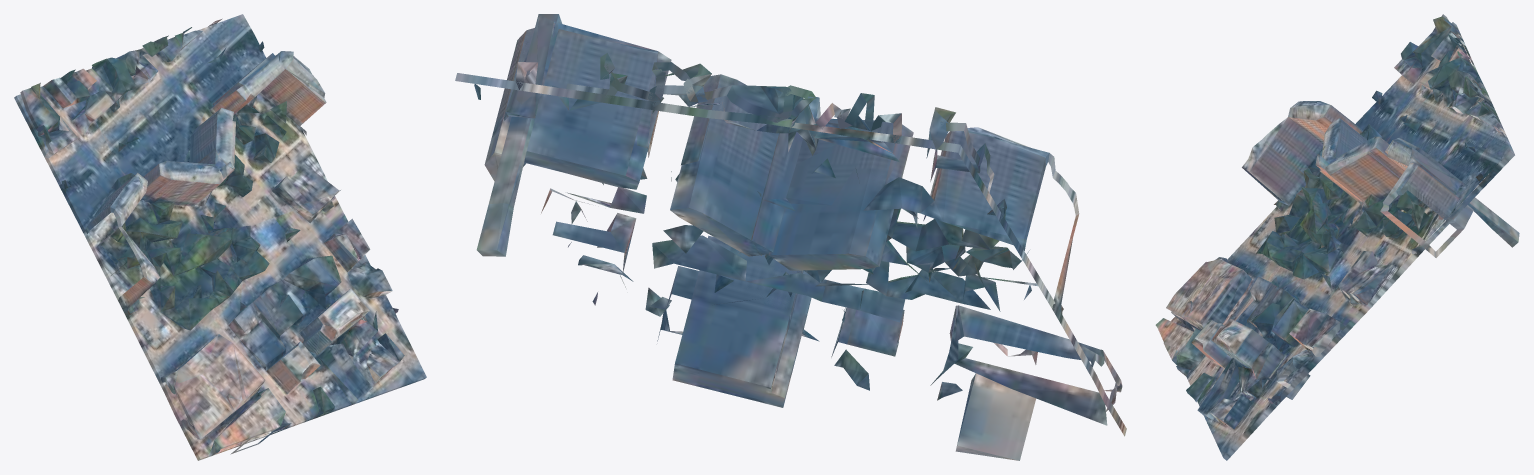
The model's file is AJVsH2ytEXCY1pWD5loVpjO_Y4w_JZCum9mcMwhdAFzkYSqxM83Eqafxdg8A4jJ8Pn76mWLbLPawevs6zciopN-xXZDO1odVnWij0ARgoG1fA-NUORJoCCgnfLTtSHW_so86PHKxVLTOMT3ge3S8gQu_Mi9uWroZsg.glb.
3 renders of one model, left to right at view 1: azimuth 30°, elevation 25°; view 2: azimuth 150°, elevation 25°; view 3: azimuth 270°, elevation 25°, orthographic. The views are drawn at different scales.
Size of the model in its own units: 257 by 250 by 260.
1 material, 1 textured.
